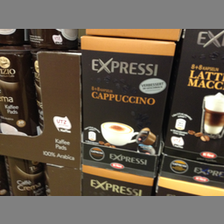coffee: (82, 35, 175, 156), (165, 30, 224, 162), (1, 30, 33, 134)
